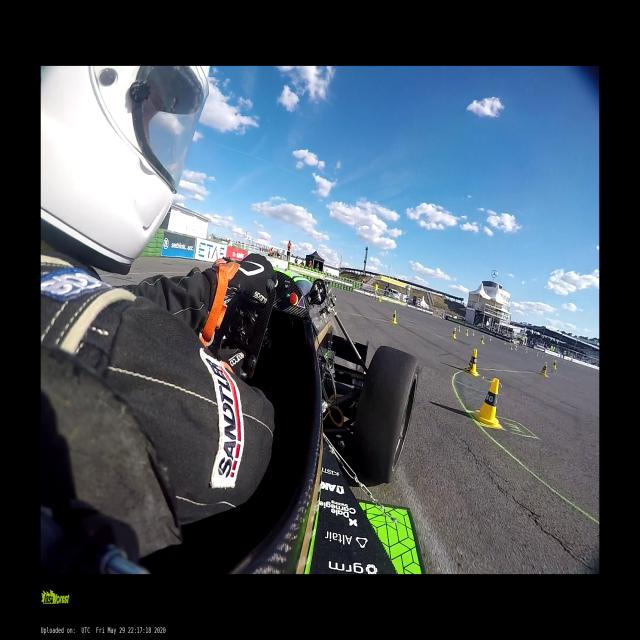yellow_cone: (470, 378, 502, 429), (464, 348, 479, 378), (540, 362, 548, 377), (552, 360, 558, 370), (392, 310, 396, 323), (480, 335, 485, 345), (452, 328, 456, 339), (466, 329, 468, 336), (458, 327, 460, 332)
